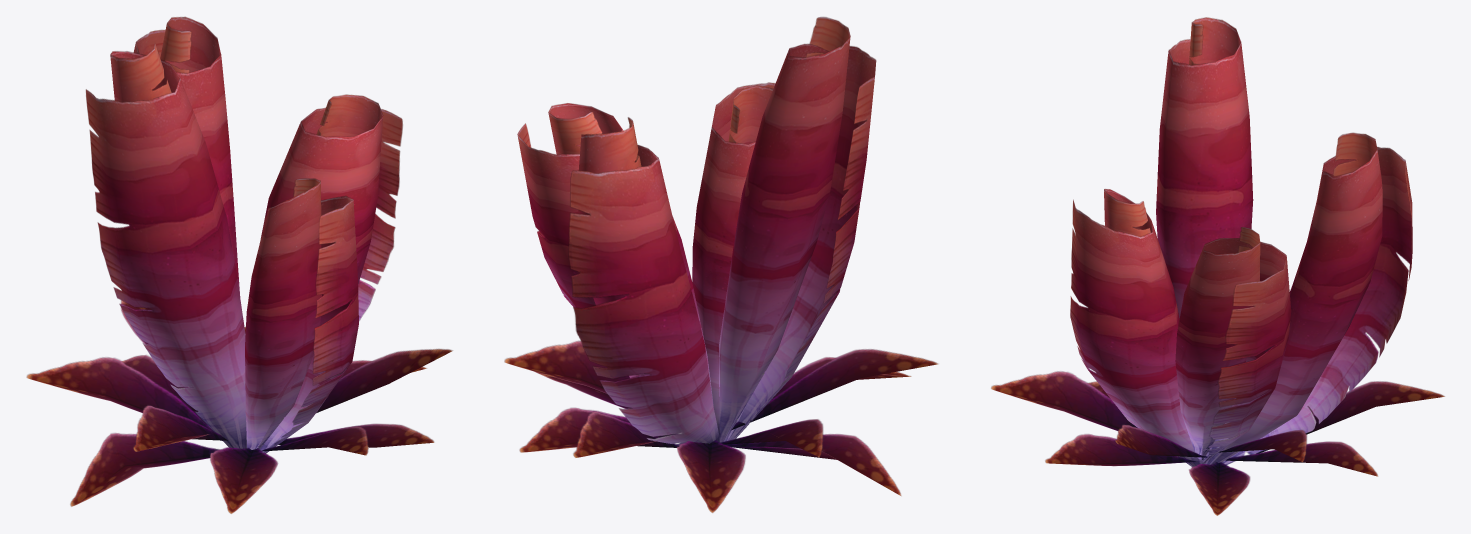
Rendered from furled_papyrus.glb.
3 renders of one model, left to right at view 1: azimuth 30°, elevation 25°; view 2: azimuth 150°, elevation 25°; view 3: azimuth 270°, elevation 25°, orthographic. The views are drawn at different scales.
Visible parts, largest first — view 1: Object_2; view 2: Object_2; view 3: Object_2.
Part boxes in pixels (x1,y1,x2,y2): Object_2: (26, 16, 452, 513); Object_2: (504, 17, 937, 512); Object_2: (991, 17, 1444, 515).
Bounding box in the file's own units: 1.8 × 2.05 × 2.13.
1 material, 1 textured.
